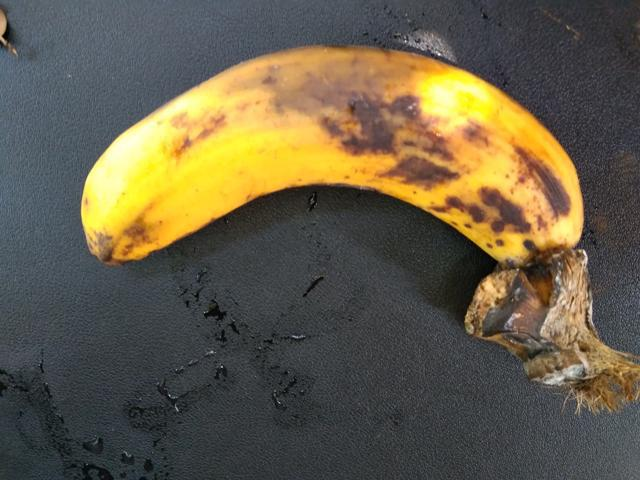overripe: (64, 20, 608, 294)
